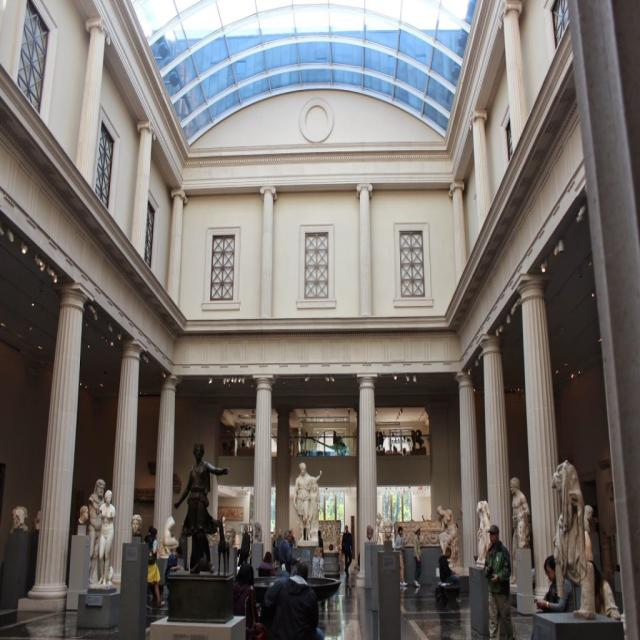body: (172, 440, 230, 575), (291, 459, 341, 555), (76, 475, 116, 591), (264, 560, 320, 640), (484, 523, 516, 639), (508, 474, 536, 592), (230, 561, 268, 640), (584, 558, 622, 622), (436, 503, 462, 569), (146, 526, 166, 609), (435, 546, 463, 604), (474, 496, 492, 569), (397, 586, 427, 628), (278, 528, 302, 576), (9, 503, 42, 535), (164, 544, 182, 602), (367, 513, 394, 549), (143, 524, 155, 604), (542, 554, 560, 604), (394, 524, 408, 586), (341, 524, 354, 578), (412, 524, 422, 588), (341, 579, 354, 628), (586, 503, 600, 548), (310, 545, 326, 579), (260, 550, 278, 577), (129, 512, 143, 542), (240, 525, 250, 565), (317, 530, 325, 560), (288, 526, 296, 549), (250, 526, 254, 570), (272, 532, 277, 563), (357, 550, 362, 571)
